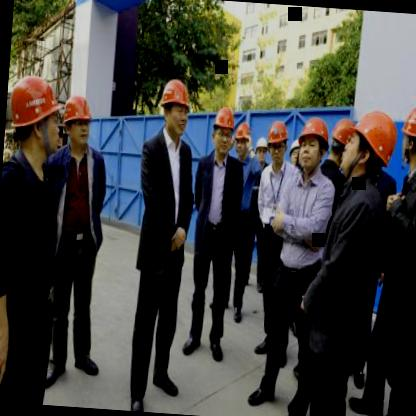helmet: (8, 72, 64, 164), (341, 106, 398, 181), (156, 74, 194, 136), (61, 90, 94, 153), (296, 113, 330, 174), (330, 115, 364, 172), (209, 102, 236, 157), (399, 99, 416, 170), (265, 118, 290, 164), (235, 121, 254, 161), (252, 132, 271, 170)
